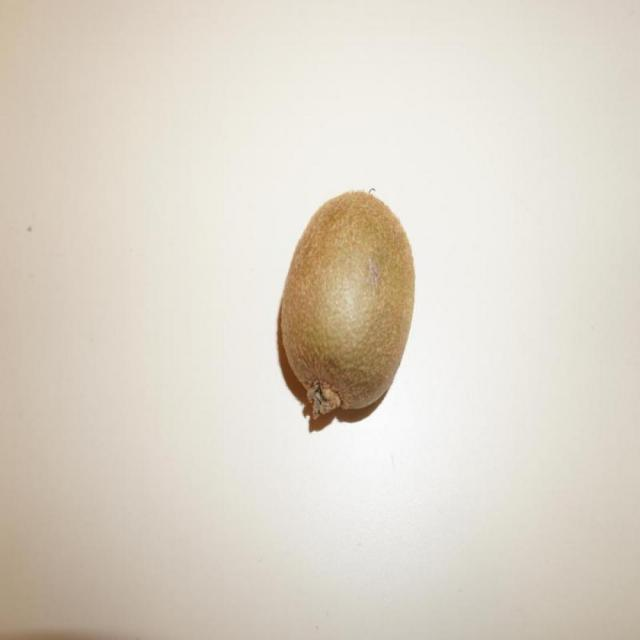Kiwi: (281, 191, 415, 418)
